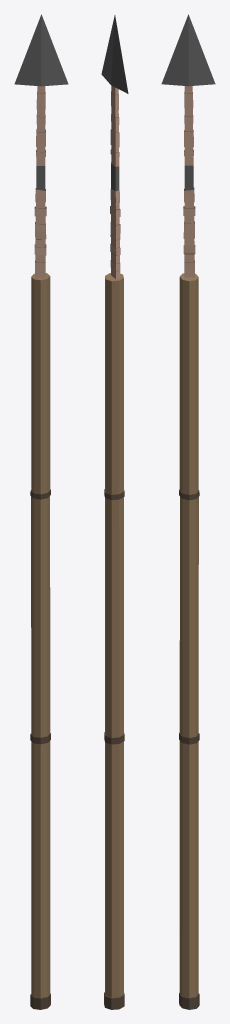
The model's file is arrow.fbx.
3 renders of one model, left to right at view 1: azimuth 90°, elevation 25°; view 2: azimuth 210°, elevation 25°; view 3: azimuth 270°, elevation 25°, orthographic.
Parts seen in each view (by area): view 1: arrowStick, arrowHead; view 2: arrowStick, arrowHead; view 3: arrowStick, arrowHead.
Part boxes in pixels (x1=…): arrowStick: x1=30, y1=273, x2=50, y2=1009; arrowHead: x1=14, y1=14, x2=68, y2=277; arrowStick: x1=104, y1=273, x2=124, y2=1009; arrowHead: x1=101, y1=15, x2=128, y2=279; arrowStick: x1=179, y1=273, x2=199, y2=1009; arrowHead: x1=161, y1=14, x2=215, y2=277.
Size of the model in its own units: 15.69 by 785 by 38.92.
